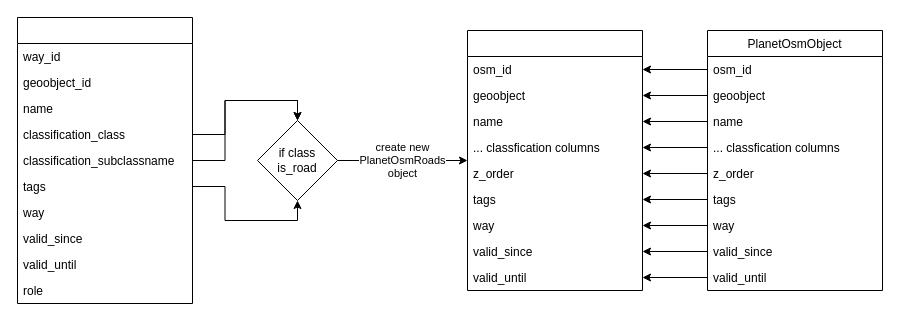
This 900x324 diagram has some shape labels left out. The box of each missing label's shape, as (x1, y1, x2, y2) in pixels:
OhdmGeoobjectWay: (16, 16, 192, 304)
PlanetOsmRoads: (466, 30, 642, 290)
